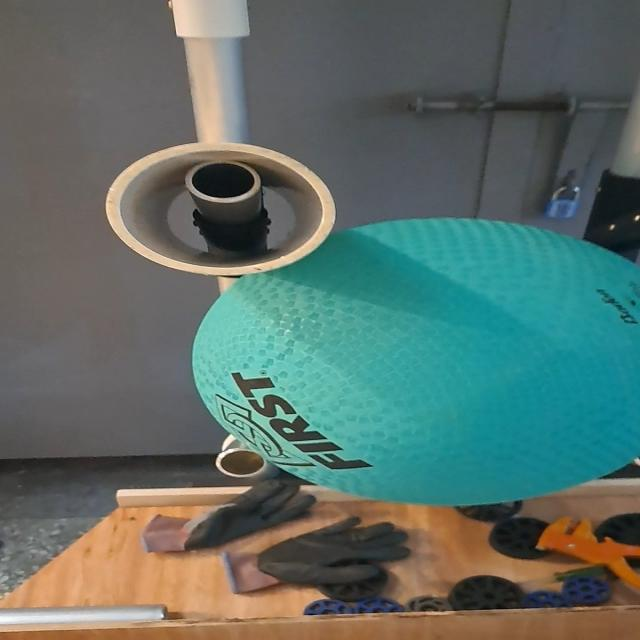ALGAE: (189, 214, 640, 506)
CORAL: (96, 138, 340, 280)
